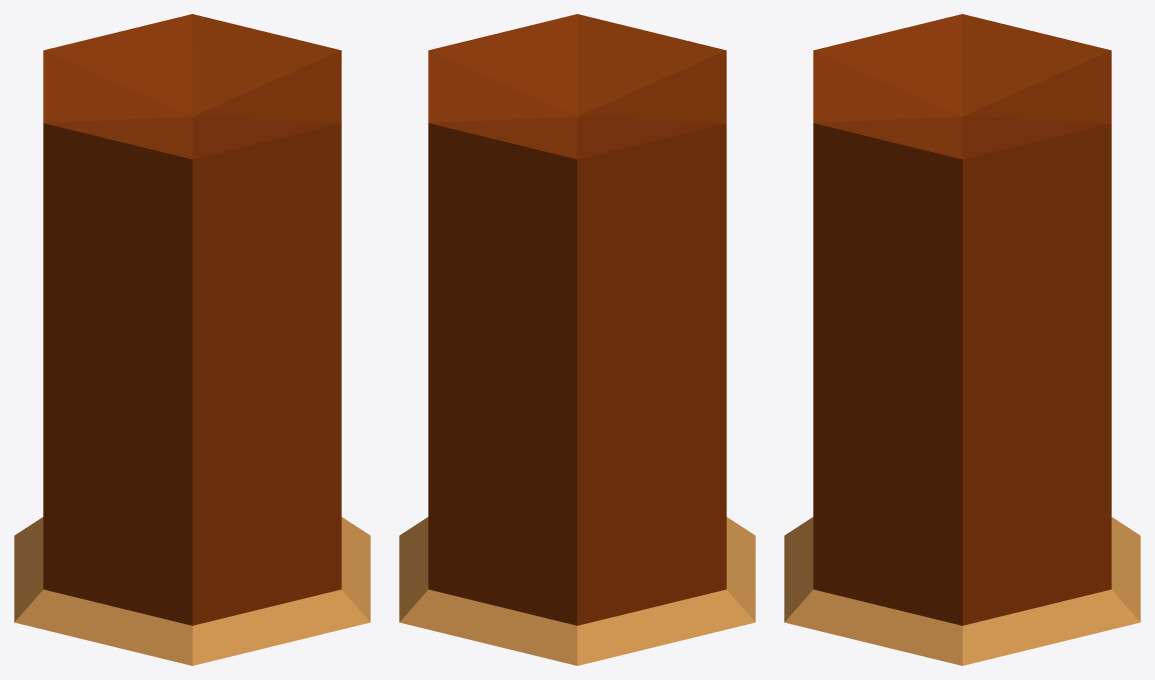
The model's file is ShotgunCartridge.fbx.
3 renders of one model, left to right at view 1: azimuth 30°, elevation 25°; view 2: azimuth 150°, elevation 25°; view 3: azimuth 270°, elevation 25°, orthographic.
Parts seen in each view (by area): view 1: ShotgunCartridge; view 2: ShotgunCartridge; view 3: ShotgunCartridge.
Boxes of the visible parts, left/top/right/bottom form: ShotgunCartridge: left=14, top=14, right=370, bottom=665; ShotgunCartridge: left=399, top=14, right=755, bottom=665; ShotgunCartridge: left=784, top=14, right=1140, bottom=665.
Bounding box in the file's own units: 2.84 × 3.75 × 2.46.
